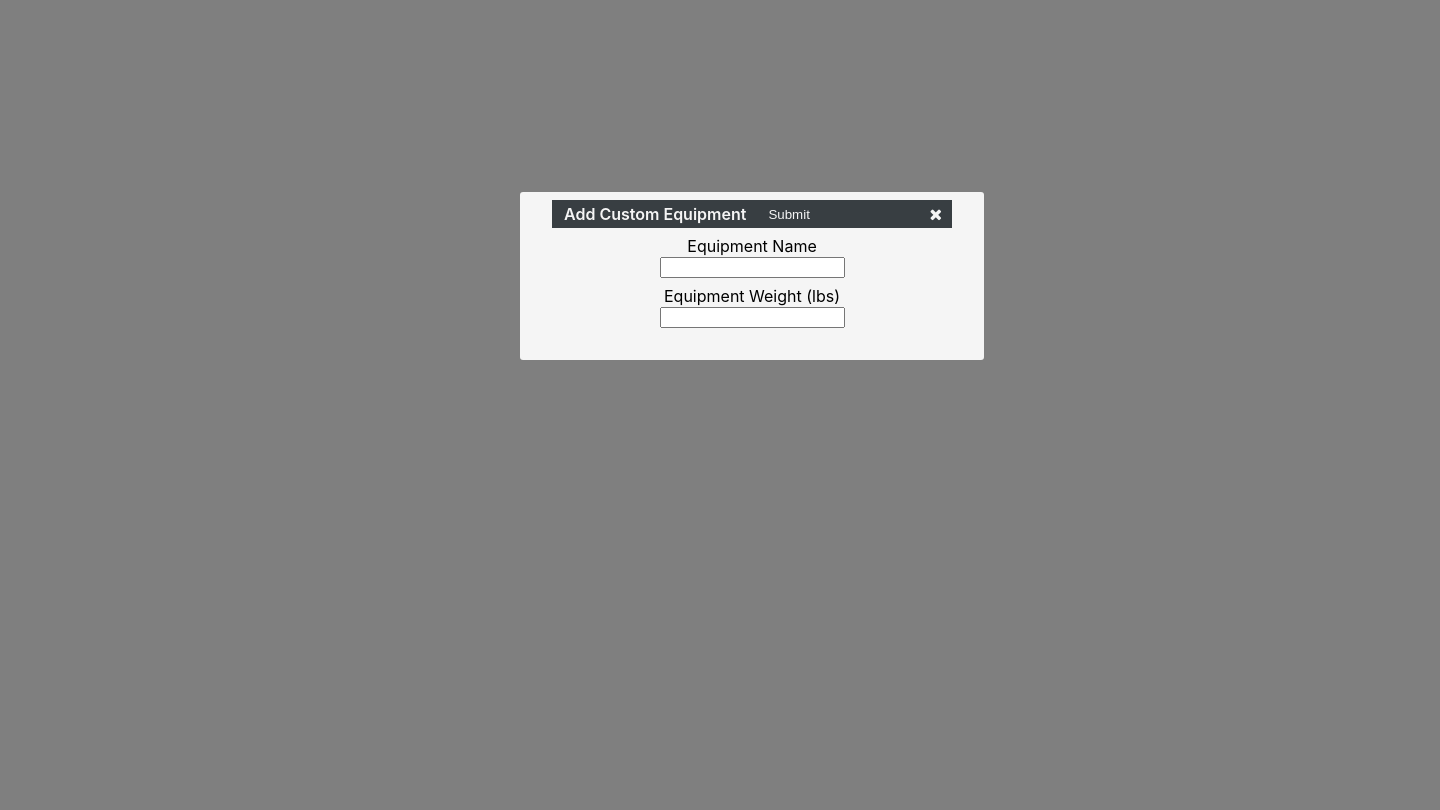
adding custom equipment › should display error msg if custom equipment weight input not a number
Type "Custom Equipment" into the field below "Equipment Name".
click(752, 268); type("Custom Equipment")  # box [660, 257, 844, 278]
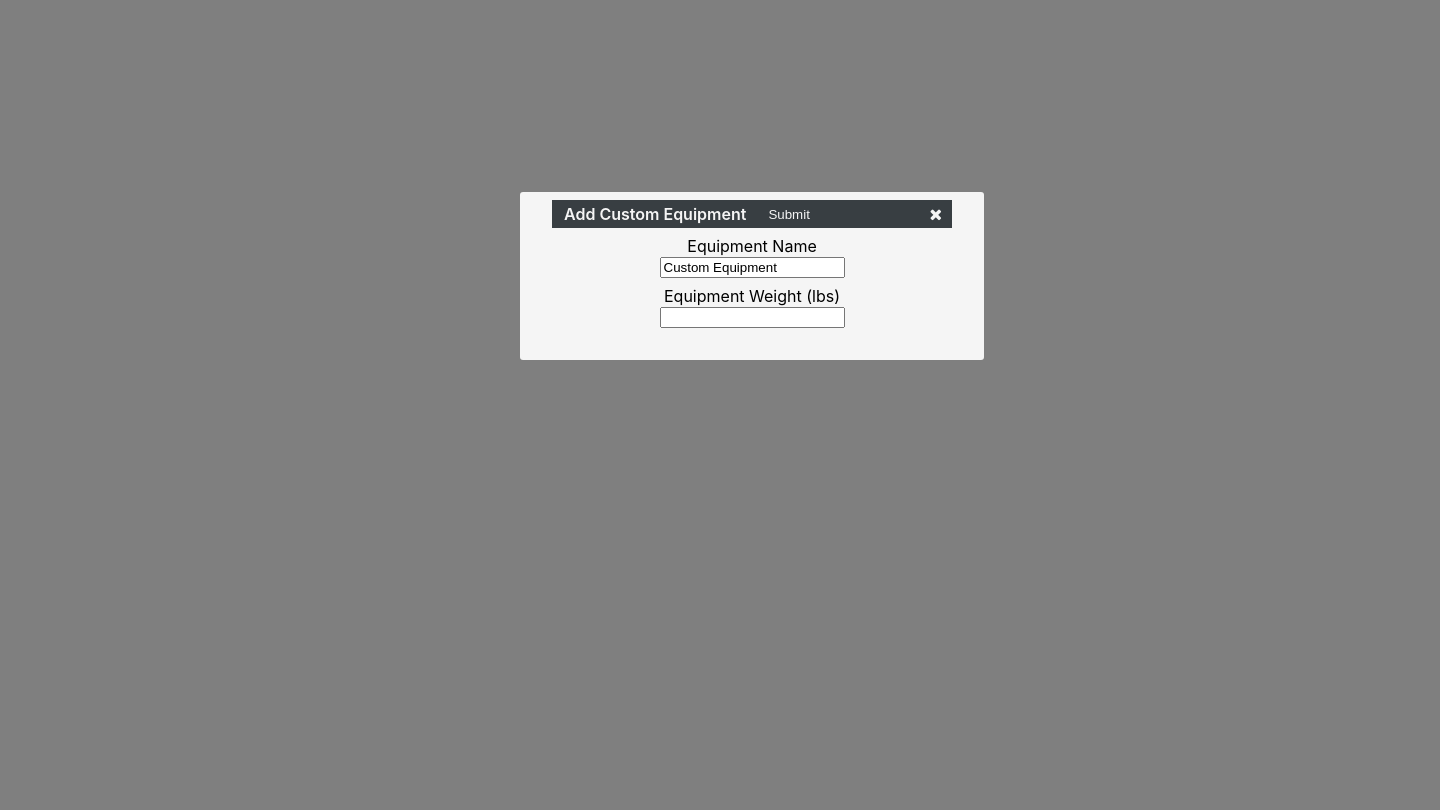
Type "x666" into the field below "Equipment Weight (lbs)".
click(752, 318); type("x666")  # box [660, 307, 844, 328]
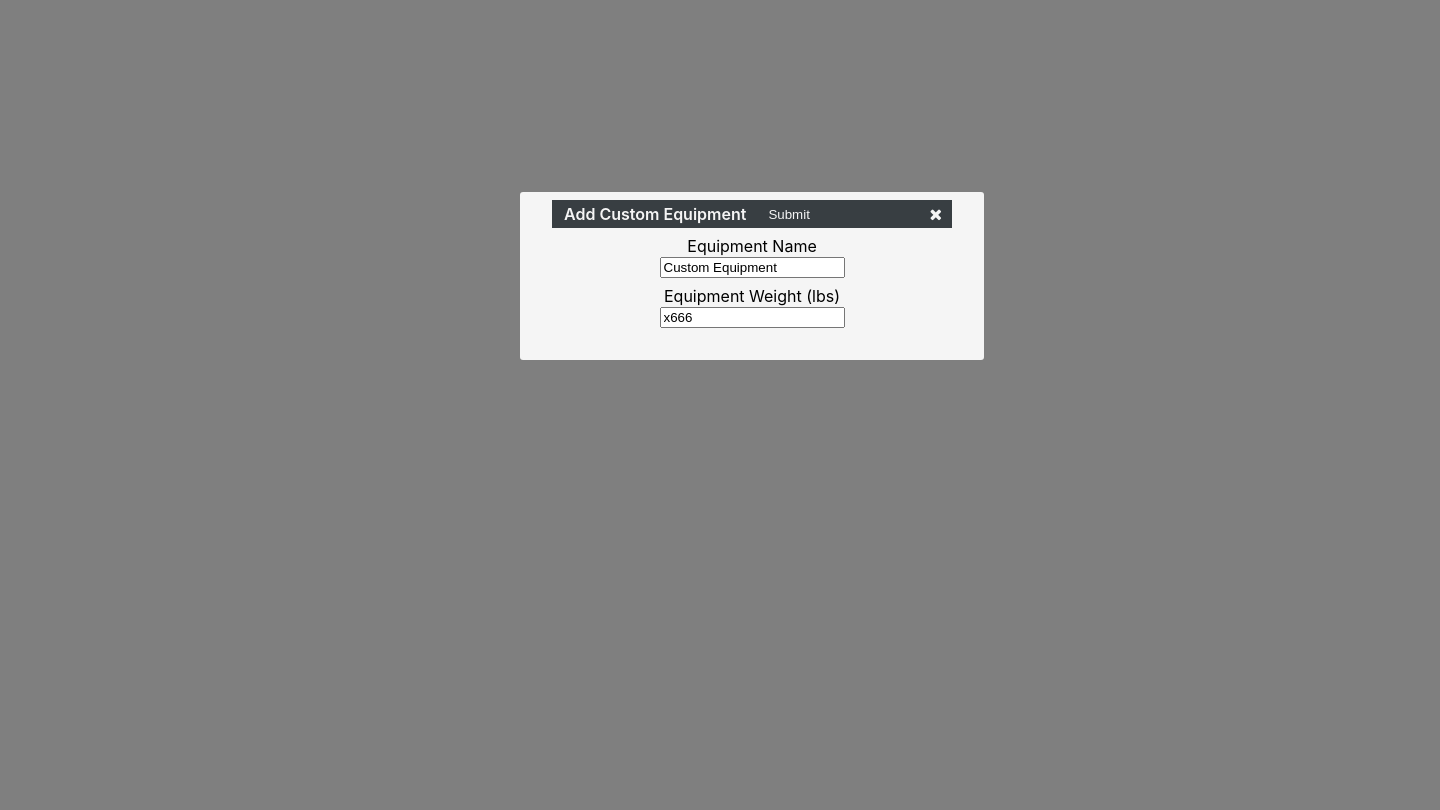
Click the button "Submit".
click(789, 214)  # box [762, 206, 816, 222]
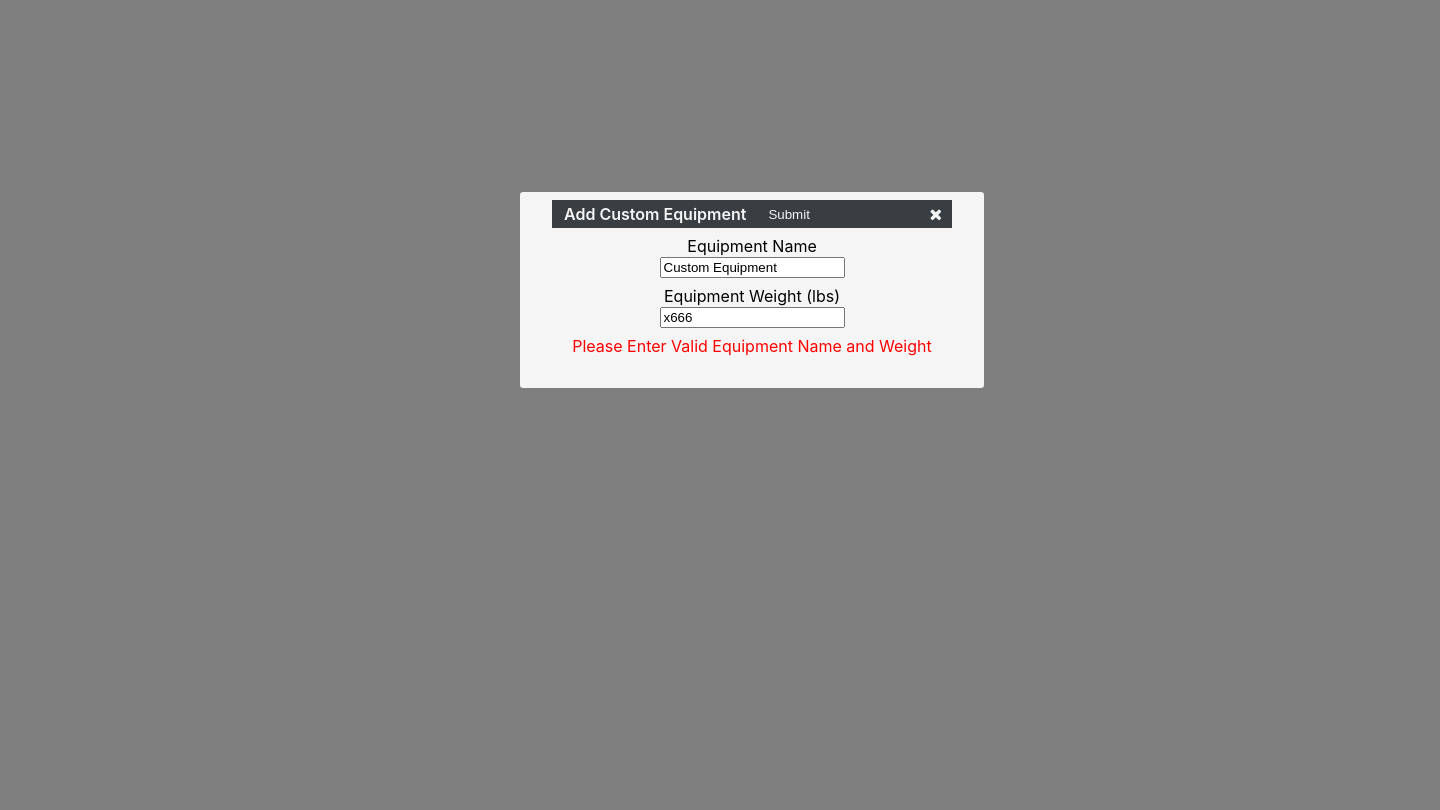
Check: the text "Please Enter Valid Equipment Name and Weight" is shown, box [552, 336, 952, 356]
